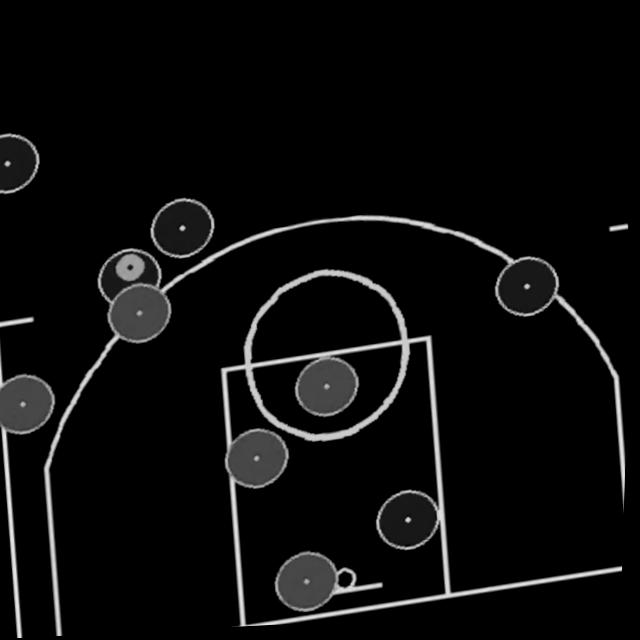Basketball: (115, 253, 148, 285)
Team_A: (492, 258, 564, 327), (376, 490, 447, 559), (95, 244, 167, 311), (149, 196, 218, 264), (0, 127, 44, 195)
Team_B: (274, 550, 346, 619), (293, 355, 365, 424), (105, 281, 177, 349), (225, 426, 296, 494), (0, 369, 59, 438)
